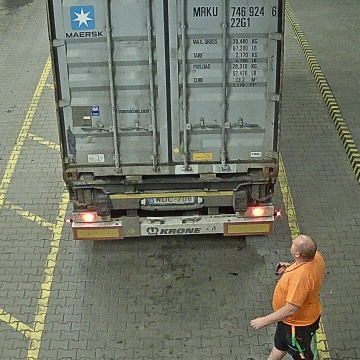serial_id: (193, 5, 277, 16)
